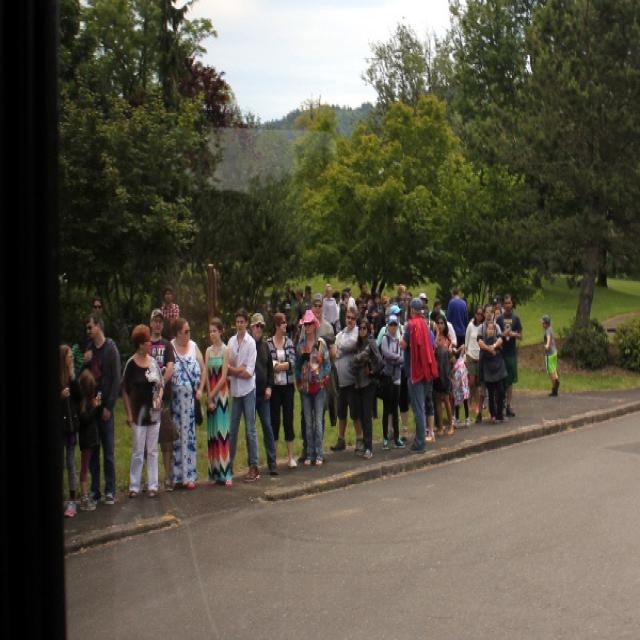body: (257, 278, 504, 336), (120, 321, 168, 498), (82, 308, 123, 506), (164, 316, 207, 492), (397, 293, 439, 454), (296, 292, 335, 464), (224, 306, 261, 484), (293, 307, 333, 467), (327, 301, 367, 454), (347, 314, 387, 460), (146, 307, 176, 495), (246, 310, 280, 475), (202, 313, 234, 487), (264, 308, 298, 469), (378, 310, 408, 451), (493, 290, 524, 417), (76, 365, 102, 512), (474, 301, 504, 425), (59, 343, 79, 518), (478, 318, 510, 424), (432, 313, 455, 437), (68, 327, 95, 429), (464, 302, 486, 418), (449, 342, 472, 429), (541, 313, 561, 399), (445, 286, 469, 350), (376, 302, 406, 348), (82, 293, 108, 344), (321, 282, 341, 338), (160, 284, 180, 321)
